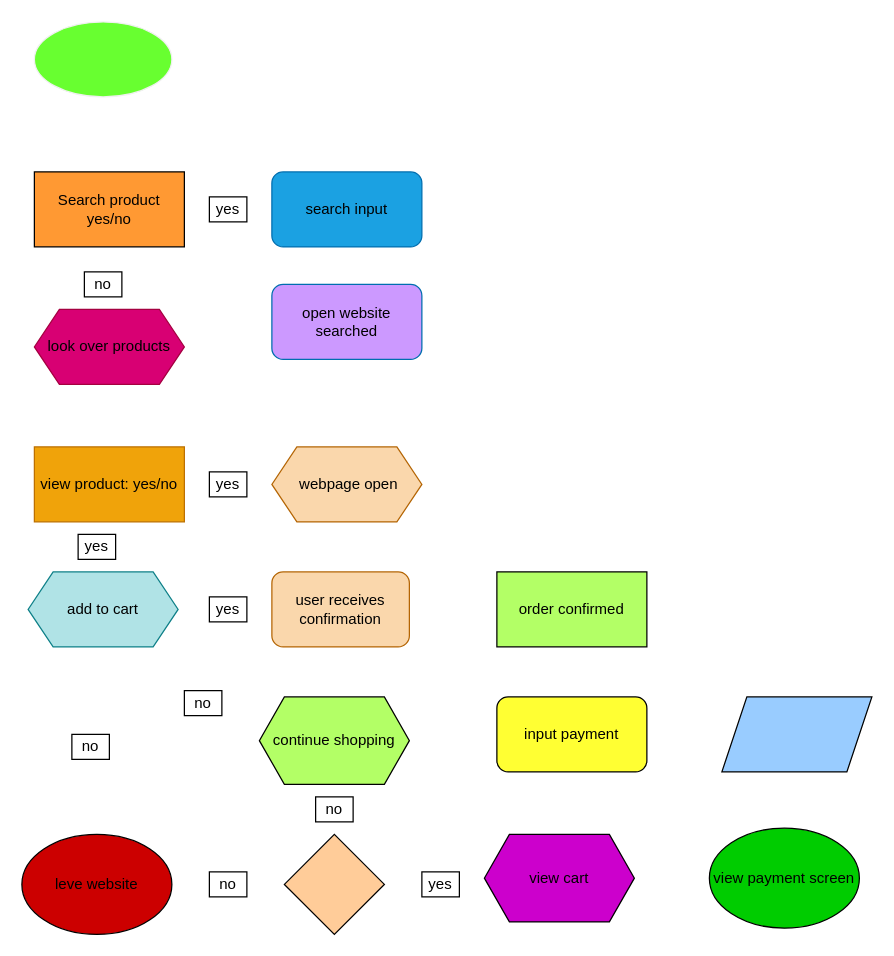
This 894x956 diagram has some shape labels left out. The box of each missing label's shape, as (x1, y1, x2, y2) in pixels:
checkout: yes/no: (283, 833, 384, 934)
send email confirmation: (721, 696, 872, 772)
Start website: (33, 21, 172, 97)
